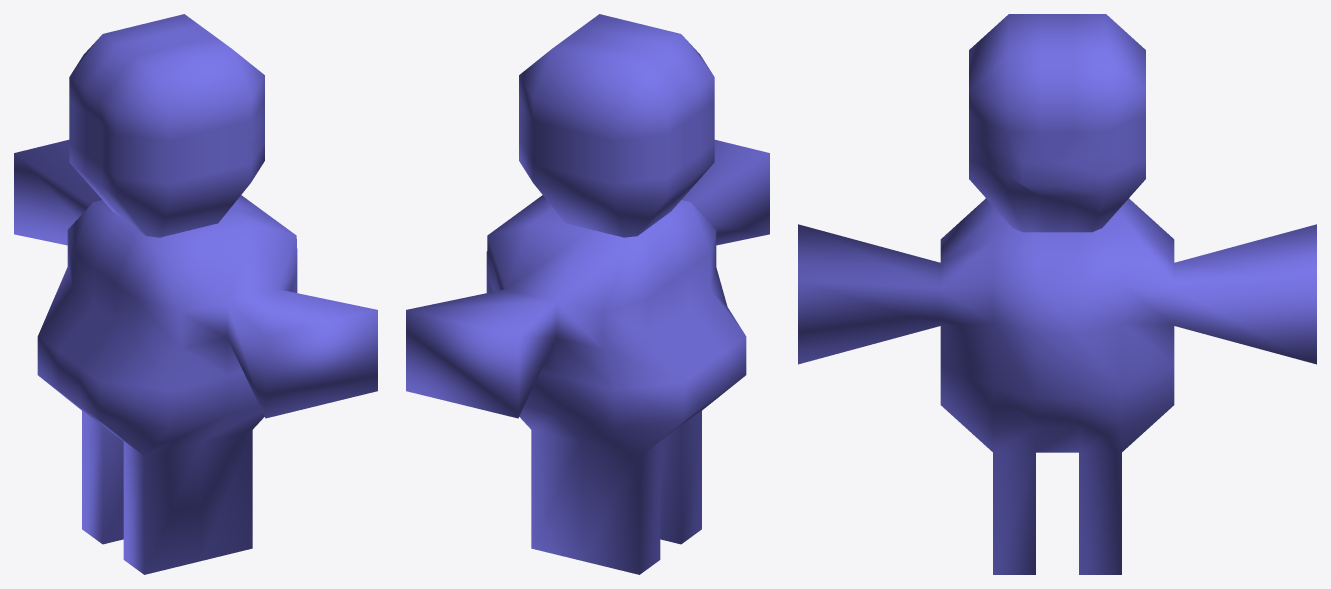
The model's file is BONHOMME BLEU.glb.
3 views of the same model, side by side, from view 1: azimuth 30°, elevation 25°; view 2: azimuth 150°, elevation 25°; view 3: azimuth 270°, elevation 25° (orthographic). The views are drawn at different scales.
Visible parts, largest first — view 1: Cube.002, Cube.001; view 2: Cube.002, Cube.001; view 3: Cube.002, Cube.001.
Boxes of the visible parts, <box> form: Cube.002: <box>14,140,377,574</box>; Cube.001: <box>69,14,264,237</box>; Cube.002: <box>406,140,769,574</box>; Cube.001: <box>519,14,714,237</box>; Cube.002: <box>798,198,1316,574</box>; Cube.001: <box>969,14,1145,232</box>.
Bounding box in the file's own units: 2.94 × 6.41 × 5.87.
